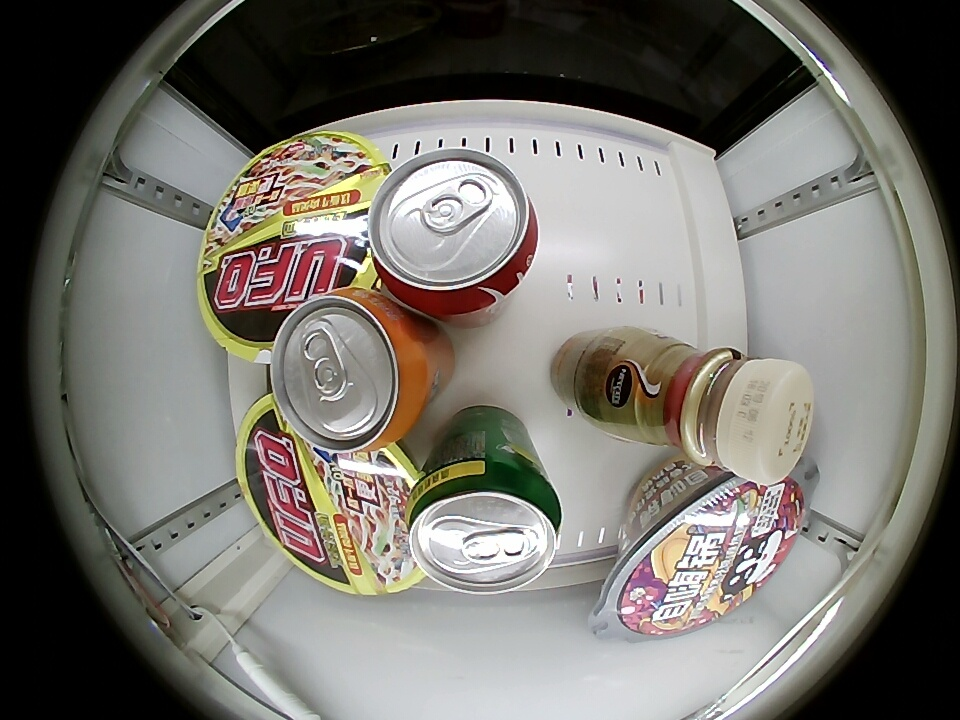fenda: (272, 287, 430, 452)
kafei: (612, 332, 815, 484)
kele: (371, 149, 539, 312)
ufo: (198, 131, 387, 361), (237, 392, 426, 596)
xuebi: (407, 457, 562, 591)
zihaiguo: (618, 478, 805, 636)
